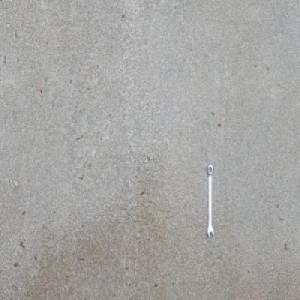Wrench: (206, 163, 214, 240)
